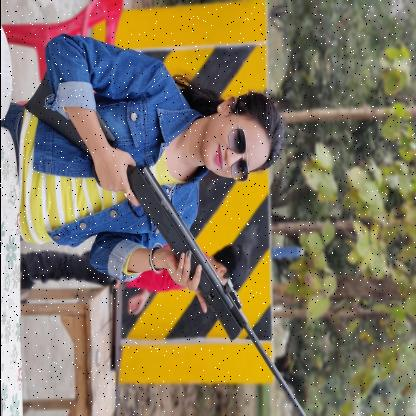rifle: (21, 64, 306, 416)
